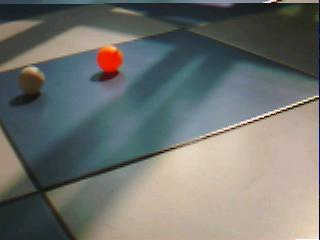oball: (97, 46, 123, 72)
